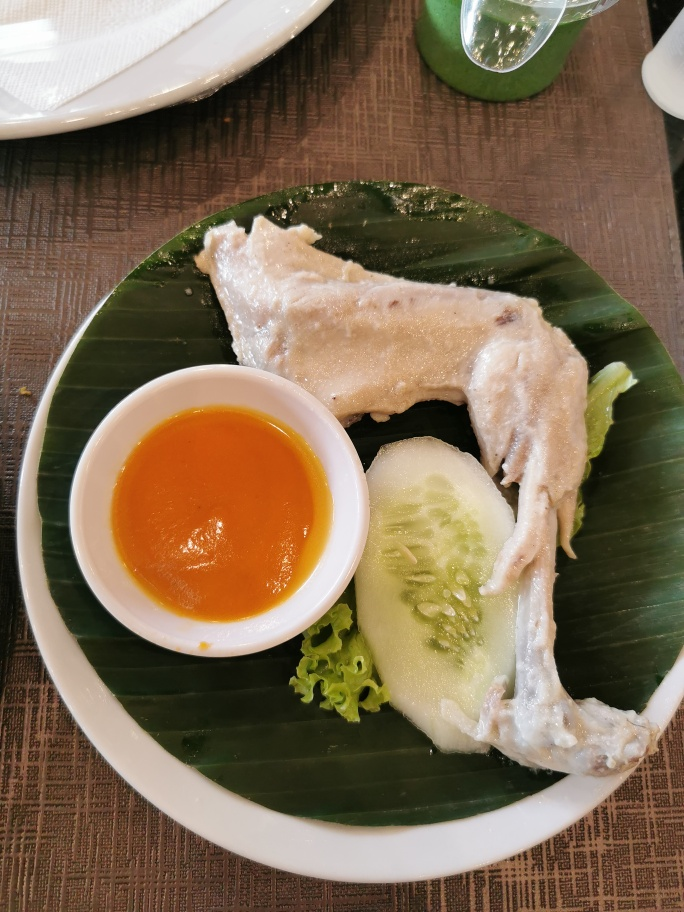ayam pop: (197, 222, 658, 771)
extra: (74, 354, 521, 761)
